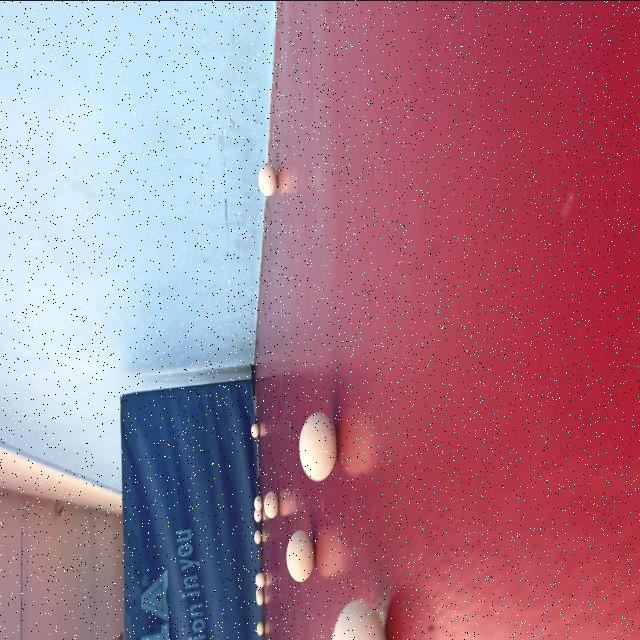ping-pong-ball: (294, 402, 338, 488), (282, 520, 320, 588), (256, 156, 280, 203)
